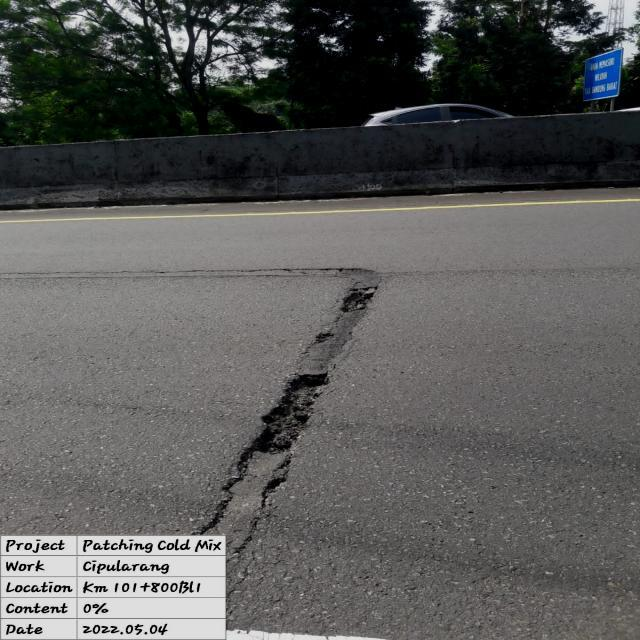Buraco: (233, 370, 334, 476), (336, 284, 382, 316), (256, 475, 292, 514), (313, 330, 337, 346)
